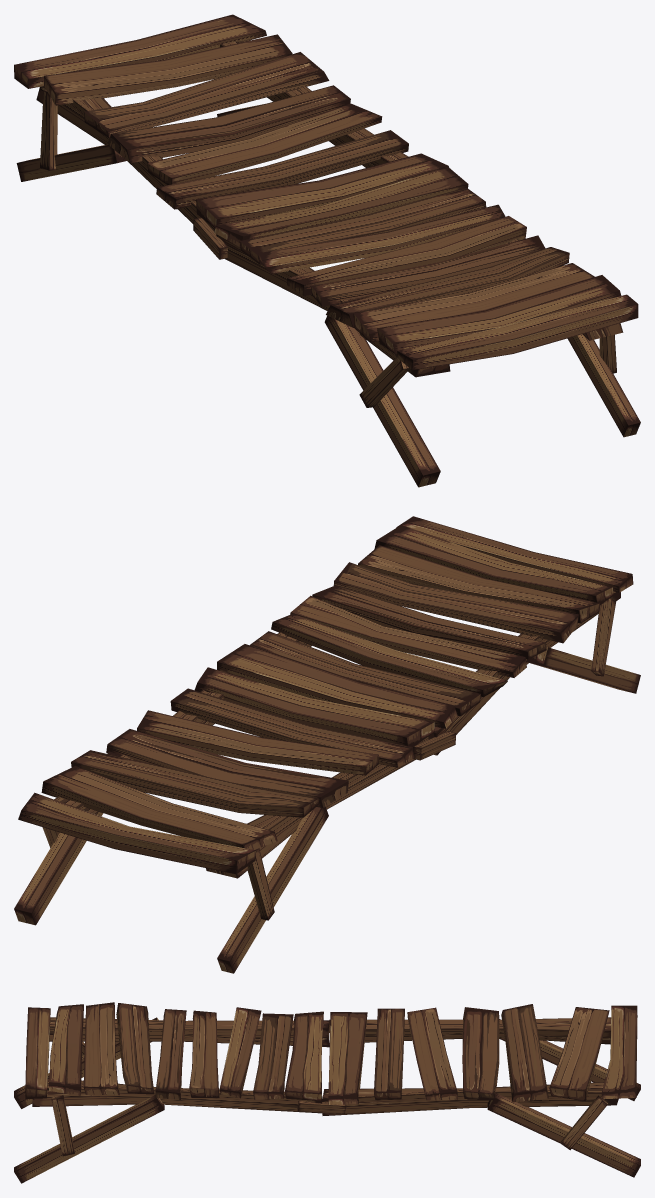
Rendered from SM_PROP_woodbridge_dungeon_08.fbx.
The picture shows the model from 3 angles, top to bottom: view 1: azimuth 30°, elevation 25°; view 2: azimuth 150°, elevation 25°; view 3: azimuth 270°, elevation 25°; orthographic projection. The views are drawn at different scales.
Visible parts, largest first — view 1: SM_PROP_woodbridge_dungeon_08; view 2: SM_PROP_woodbridge_dungeon_08; view 3: SM_PROP_woodbridge_dungeon_08.
Boxes of the visible parts, x1,y1,x2,y2 form: SM_PROP_woodbridge_dungeon_08: (14,14,640,487); SM_PROP_woodbridge_dungeon_08: (14,516,640,973); SM_PROP_woodbridge_dungeon_08: (14,1002,640,1183).
Size of the model in its own units: 285 by 144 by 826.
